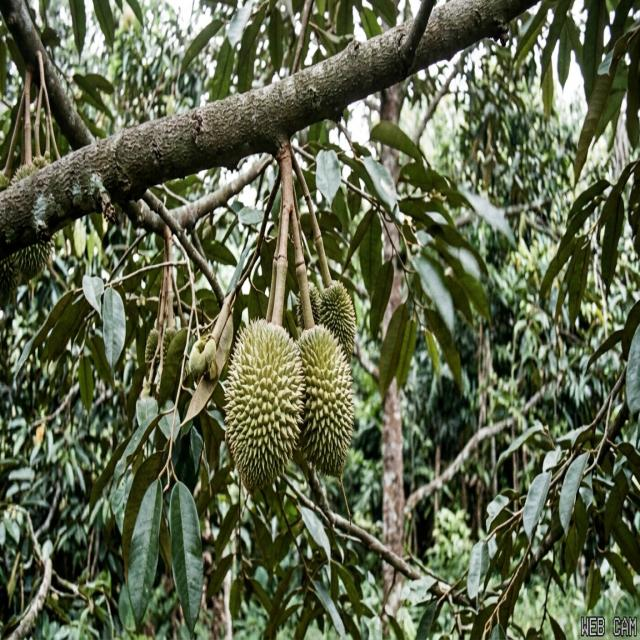immature: (224, 315, 306, 492), (294, 323, 356, 477), (317, 280, 357, 360), (296, 280, 322, 331)
